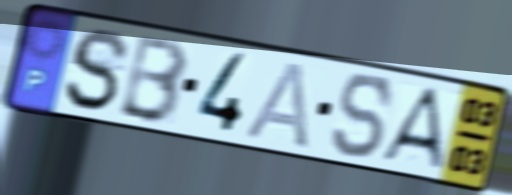4: (194, 49, 248, 138)
A: (242, 58, 311, 152), (376, 84, 447, 174)
B: (114, 33, 192, 127)
S: (61, 25, 133, 115), (329, 71, 396, 162)
